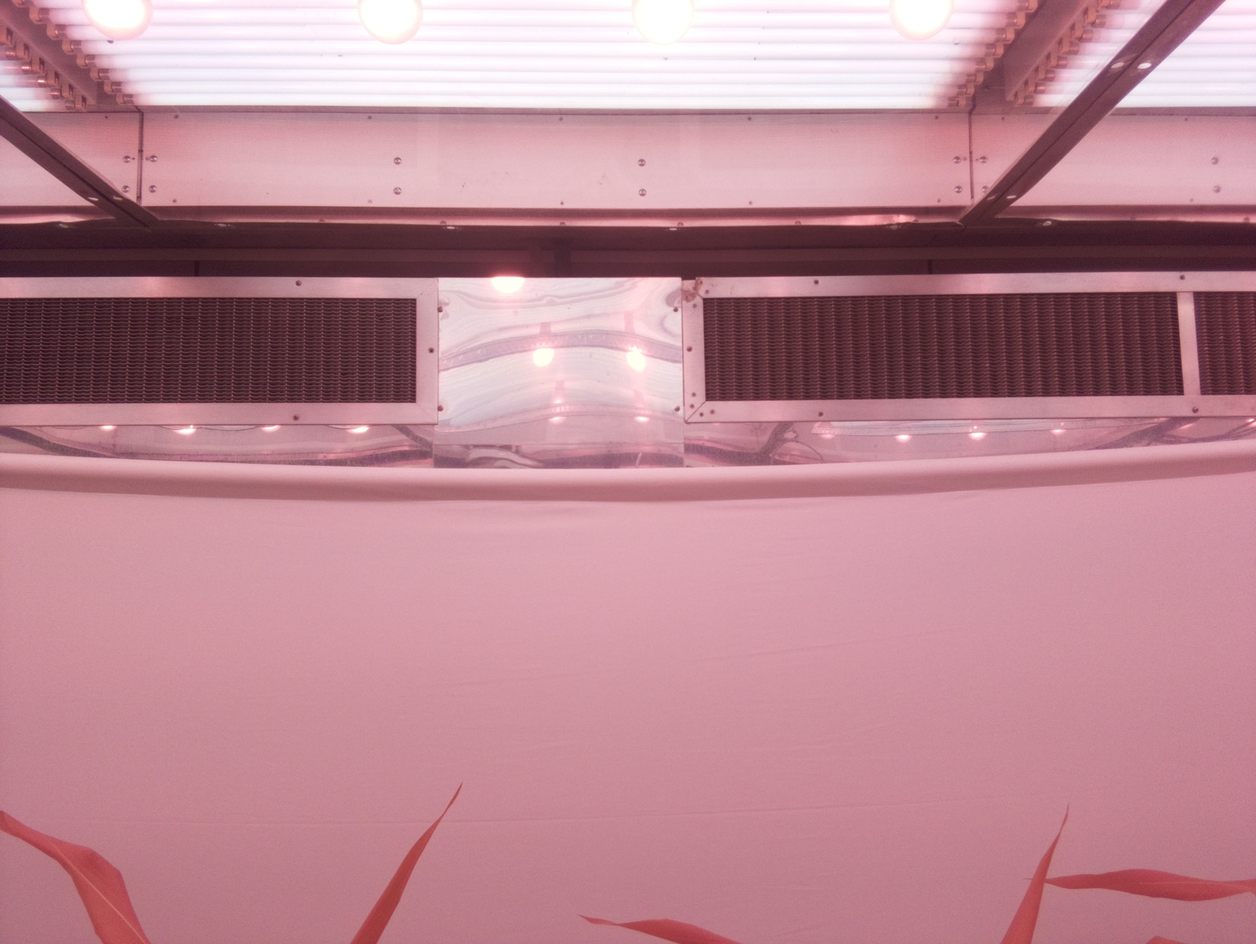maize: (577, 802, 1256, 944), (0, 780, 463, 944)
